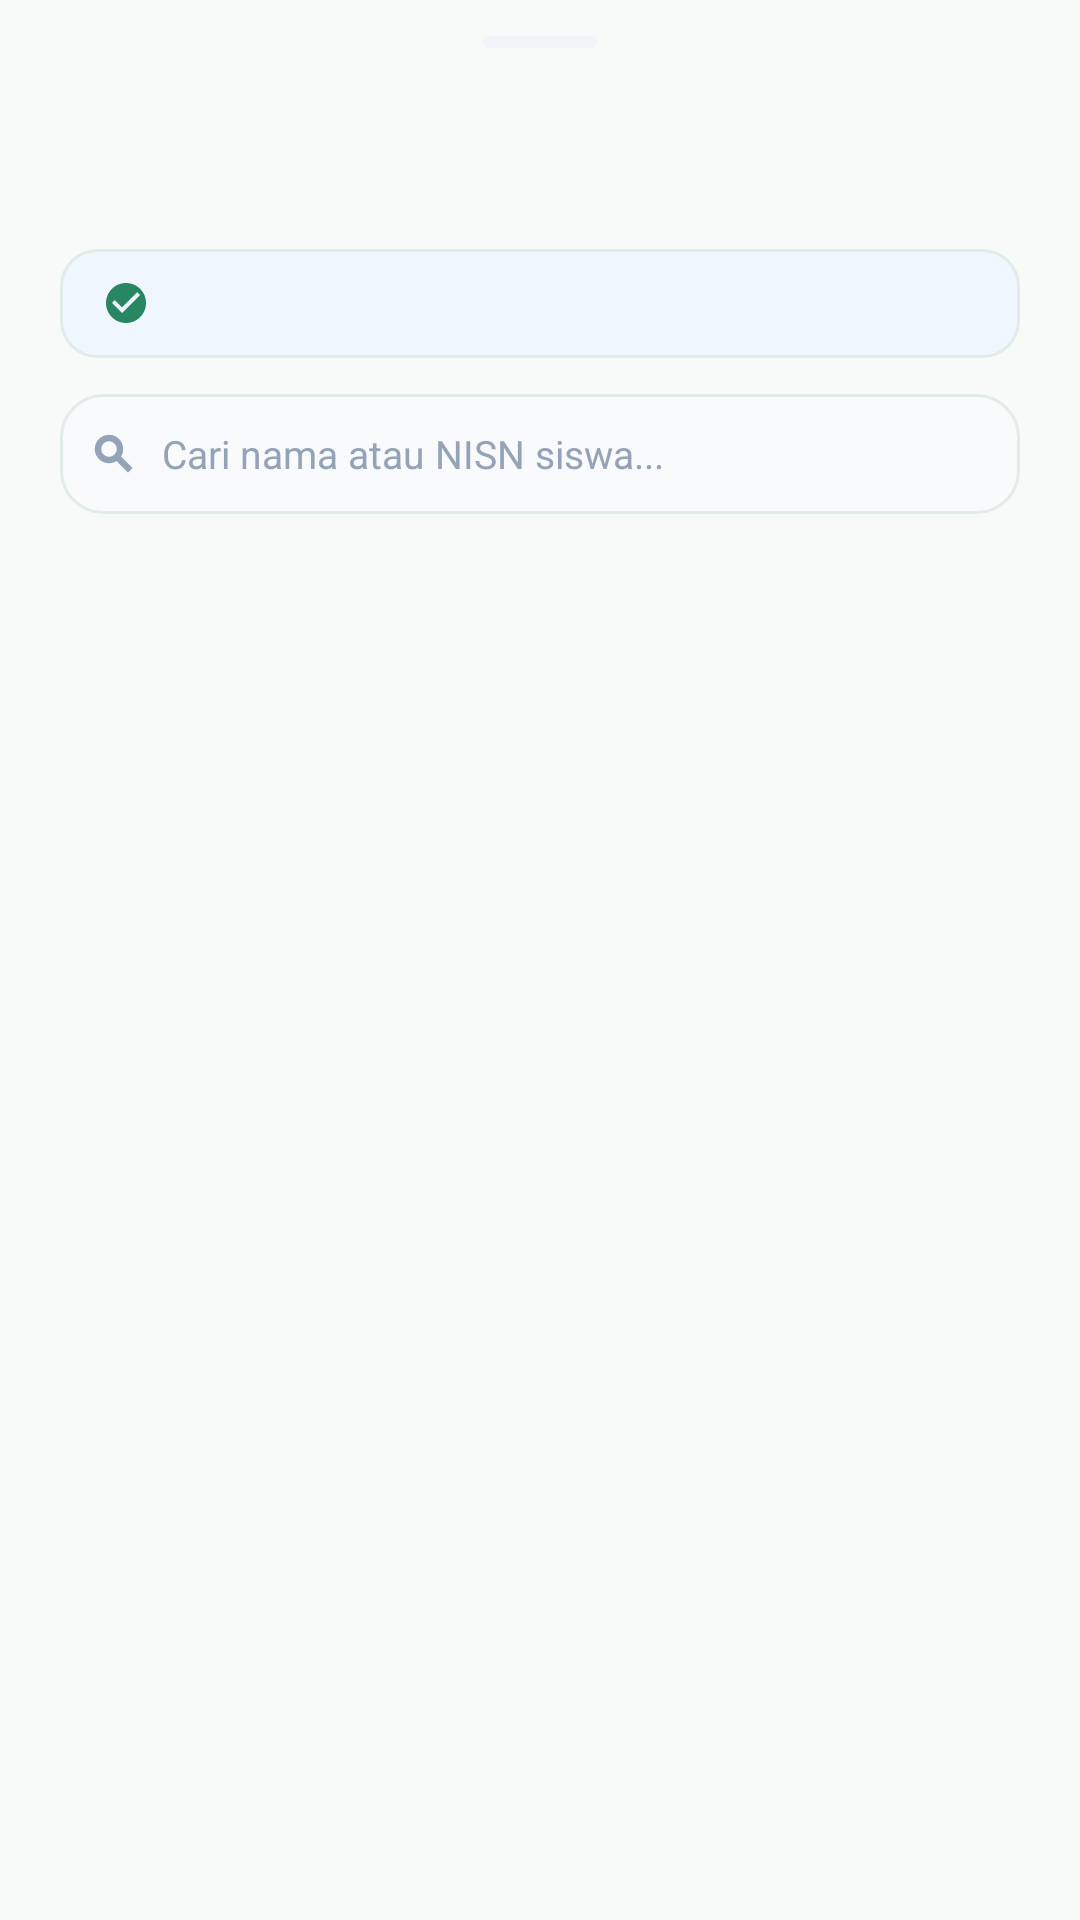

Where icons sit on this 1080 x 1920 app screen, as bbox=(x1, y1, x2, y2):
Info Presensi: bbox=(106, 283, 146, 323)
